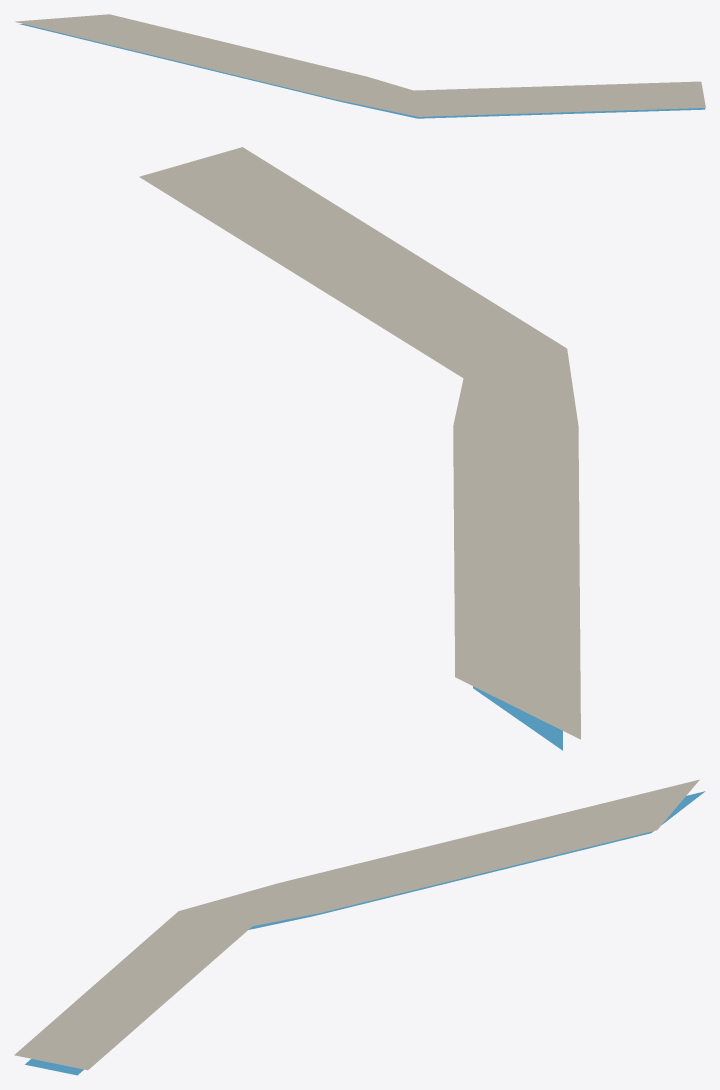
3 views of the same model, one above another, from view 1: azimuth 30°, elevation 25°; view 2: azimuth 150°, elevation 25°; view 3: azimuth 270°, elevation 25° (orthographic). The views are drawn at different scales.
Parts seen in each view (by area): view 1: estructura_terreno, estructura_agua; view 2: estructura_terreno, estructura_agua; view 3: estructura_terreno, estructura_agua.
Boxes of the visible parts, left/top/right/bottom form: estructura_terreno: left=15, top=14, right=705, bottom=116; estructura_agua: left=19, top=24, right=705, bottom=118; estructura_terreno: left=139, top=147, right=580, bottom=739; estructura_agua: left=473, top=686, right=562, bottom=750; estructura_terreno: left=14, top=779, right=699, bottom=1070; estructura_agua: left=25, top=791, right=705, bottom=1075.
Size of the model in its own units: 35.14 by 0.41 by 35.32.
